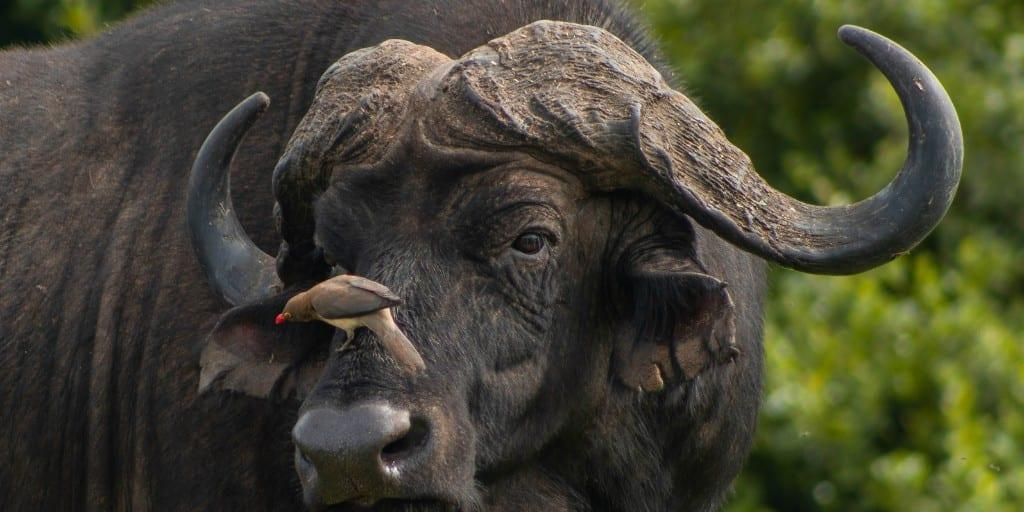Buffalo: (104, 0, 1024, 512)
